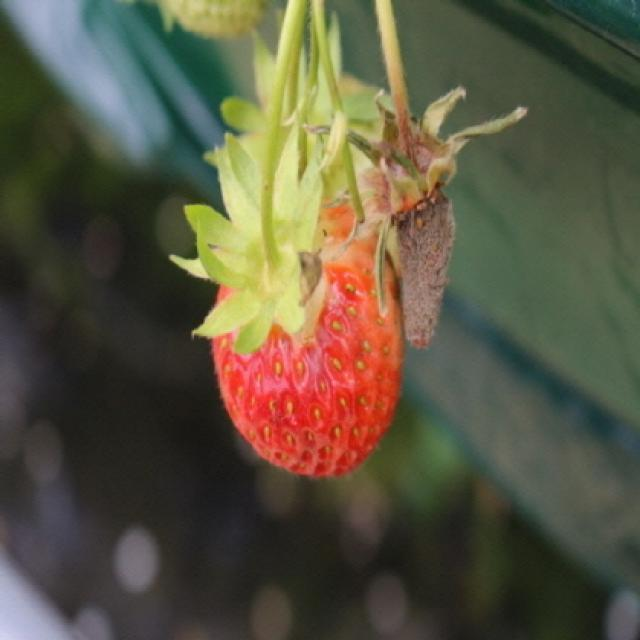Gray Mold: (369, 109, 456, 348)
